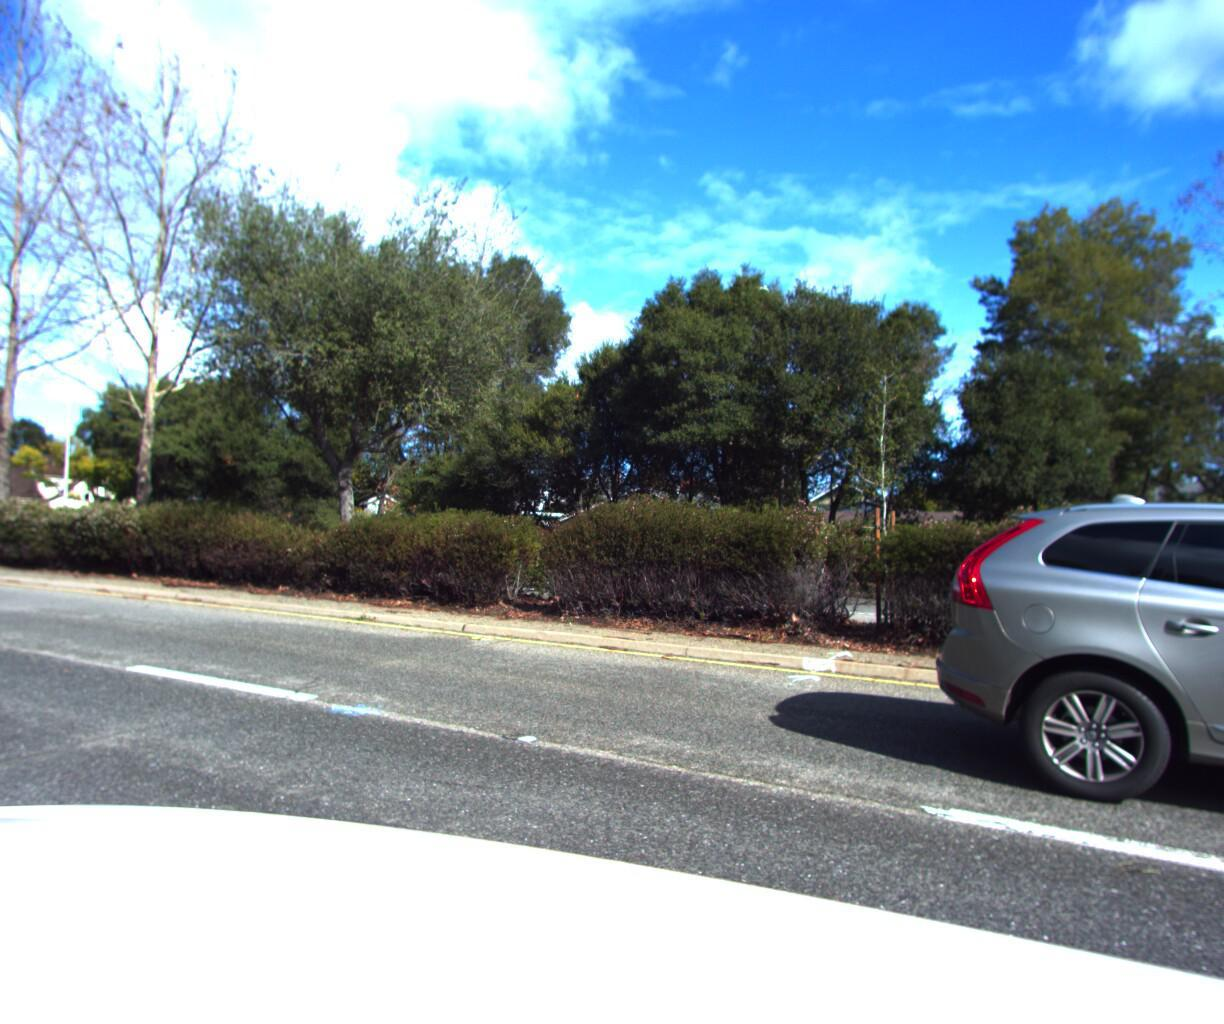car: (892, 455, 1224, 953)
